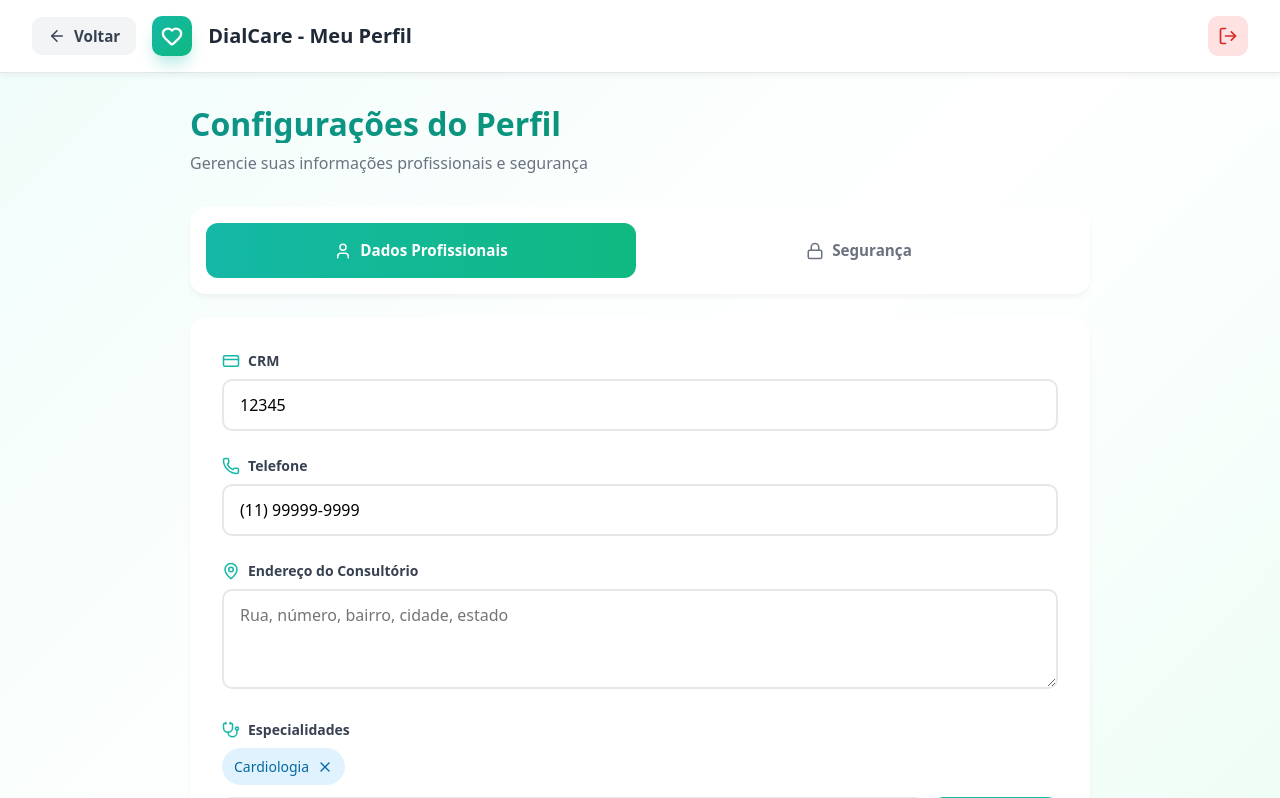
Test case: DoctorProfile Component › mostra erro se CRM for inválido
Replace the text in the field with placeholder "CRM 12345" below "CRM" with "12". click: (640, 405)
box: left=222, top=379, right=1058, bottom=431
(page scrolled)
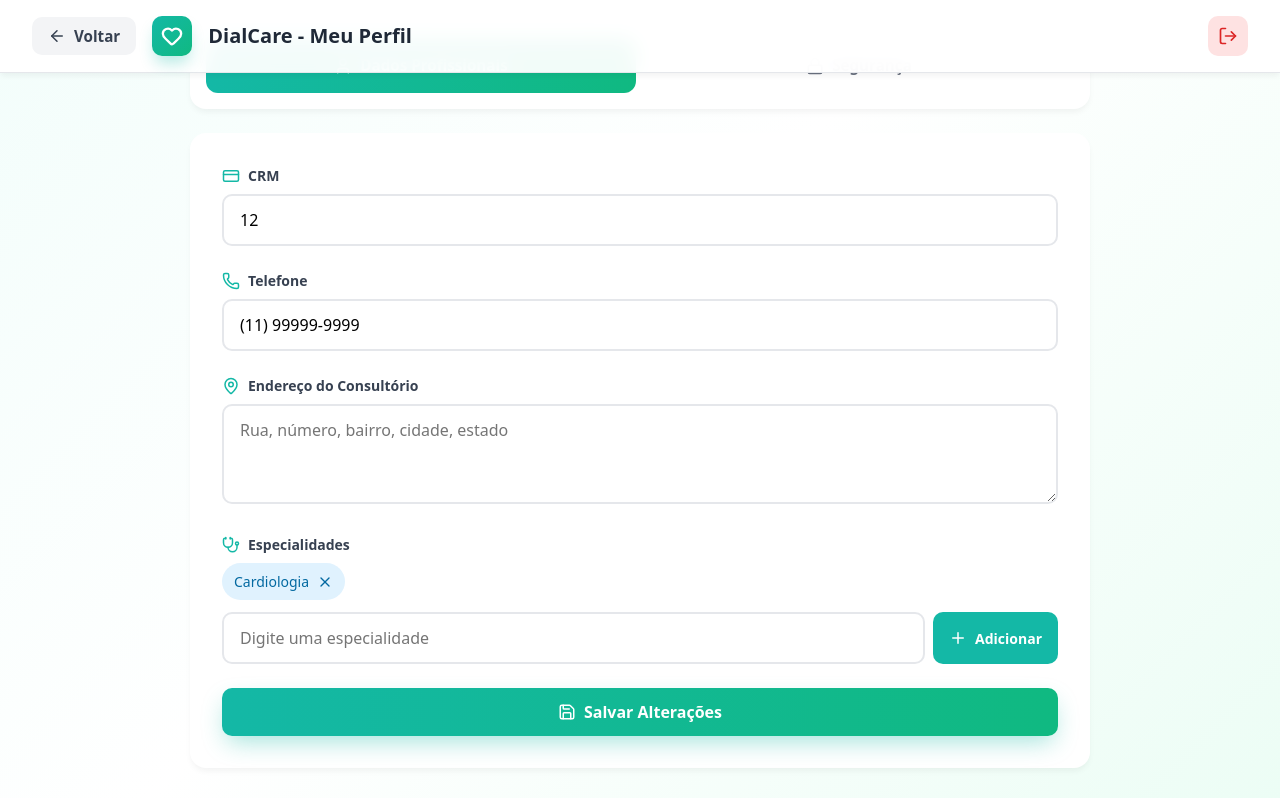
Click the button "Salvar Alterações". click: (640, 712)
box: left=222, top=688, right=1058, bottom=736
(page scrolled)
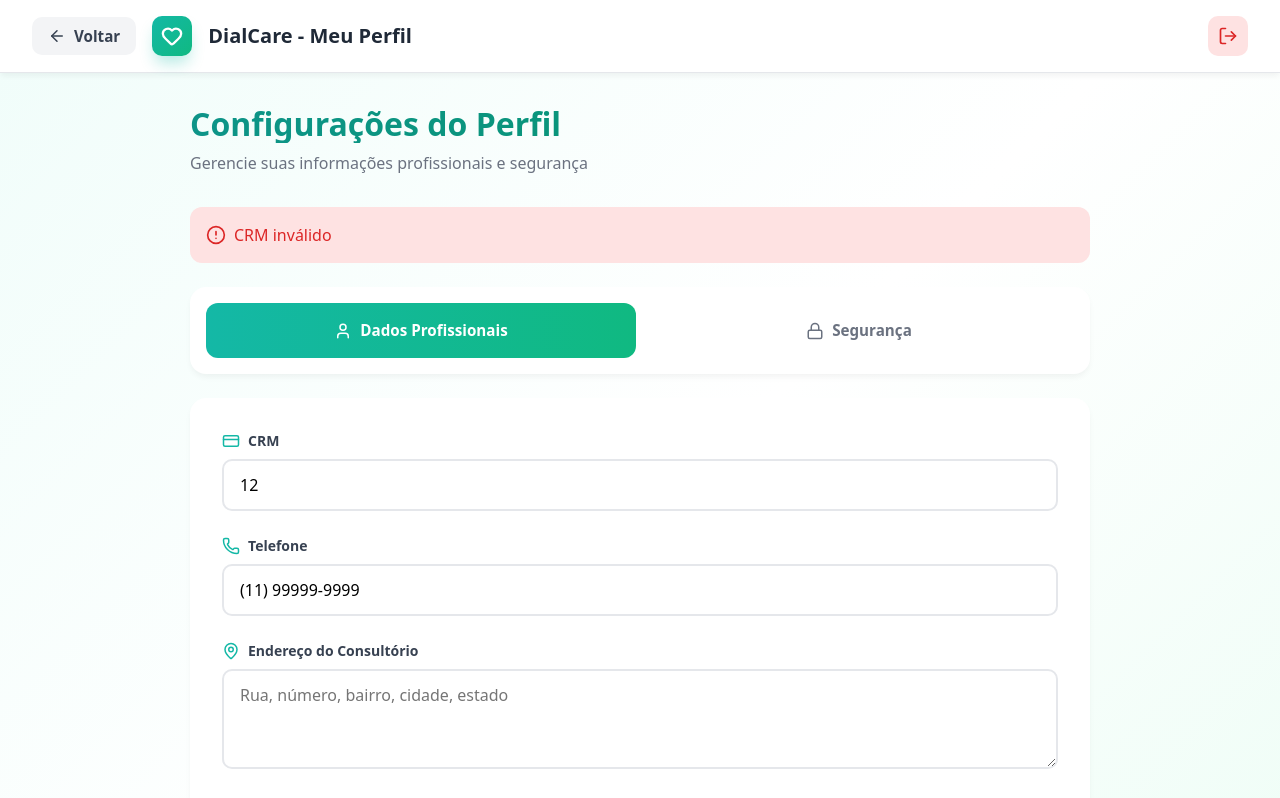
Expected: the text "CRM inválido" is shown, left=190, top=207, right=1090, bottom=263
